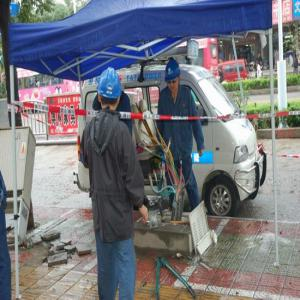blue: (98, 68, 122, 115), (164, 58, 182, 94)
